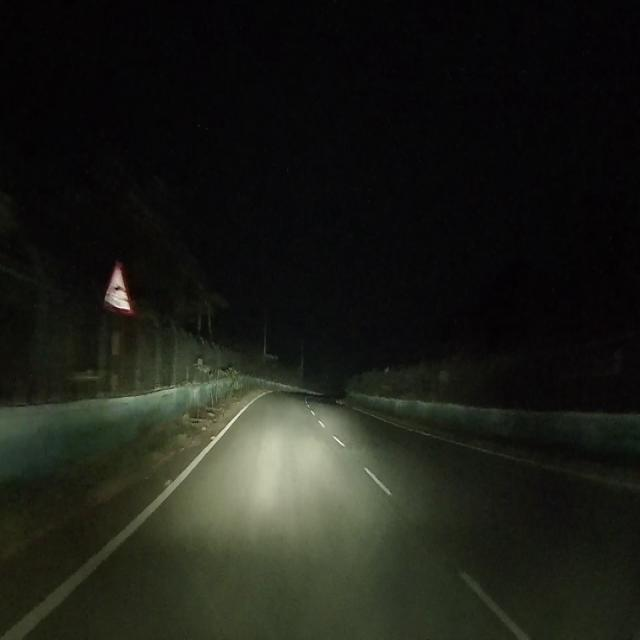right-hand-curve: (97, 260, 136, 322)
